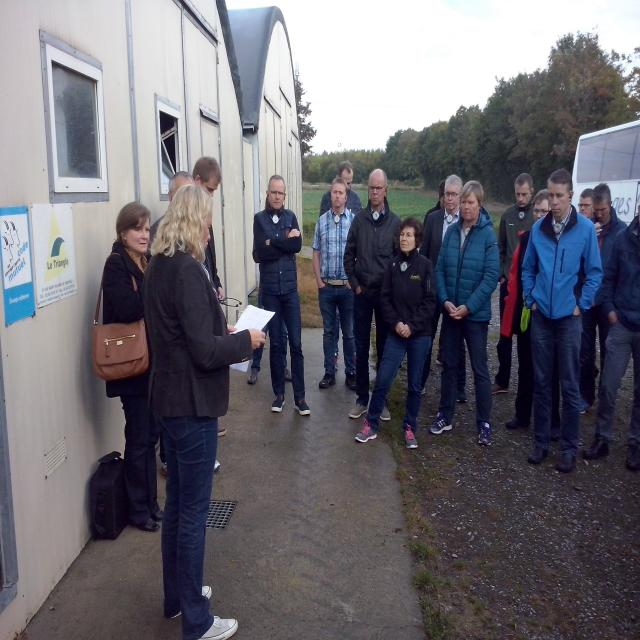body: (139, 181, 268, 640), (518, 166, 604, 476), (88, 200, 166, 533), (354, 215, 439, 450), (427, 179, 500, 446), (581, 179, 640, 470), (343, 169, 403, 421), (252, 175, 311, 416), (500, 188, 553, 432), (578, 182, 628, 414), (147, 170, 226, 306), (491, 172, 536, 395), (418, 174, 463, 395), (311, 176, 357, 391), (318, 161, 364, 372), (248, 195, 297, 384), (418, 180, 464, 368), (191, 155, 227, 307), (577, 186, 600, 383)
